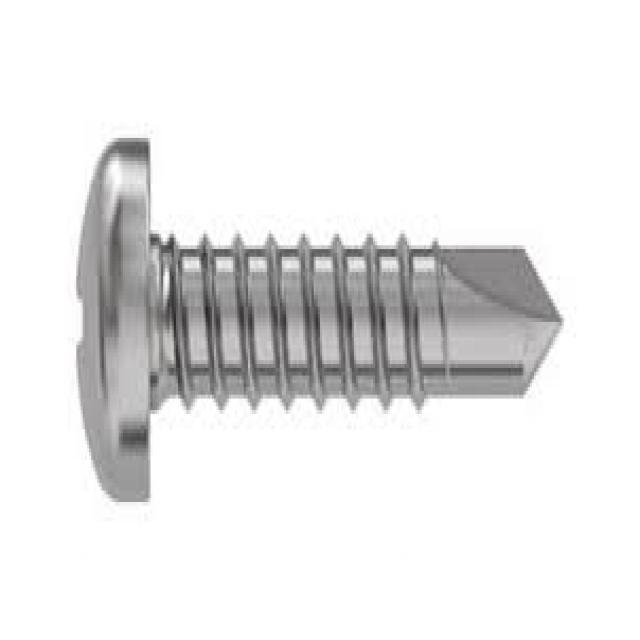Dry Waste: (44, 102, 574, 500)
